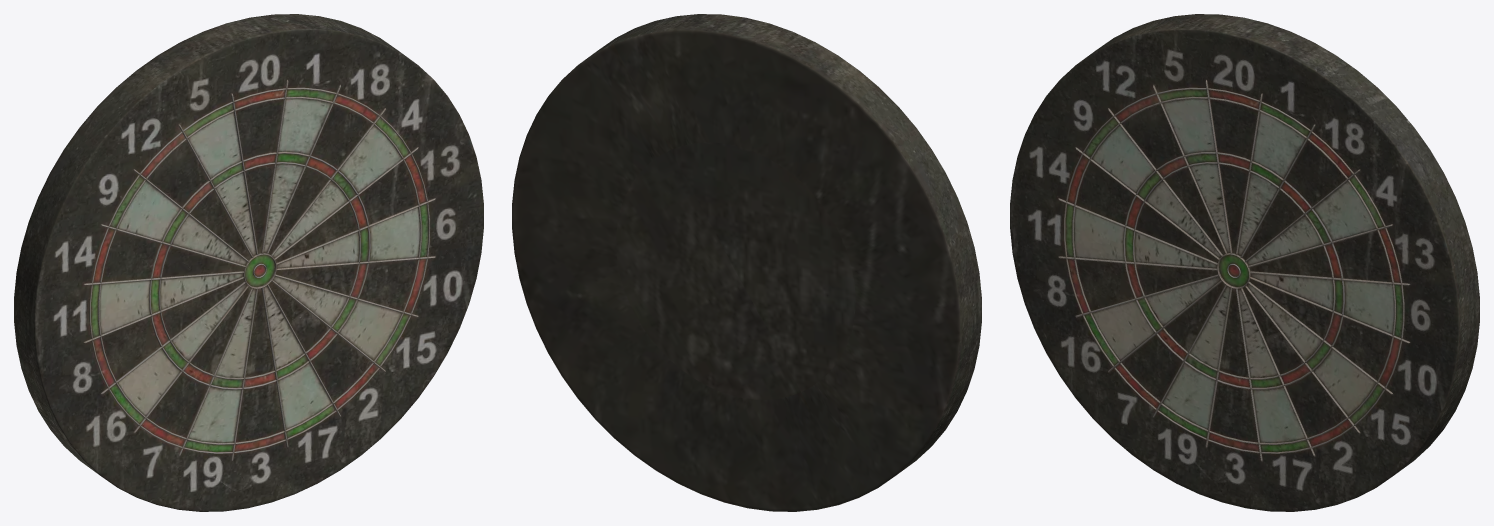
The model's file is dartboard.glb.
3 renders of one model, left to right at view 1: azimuth 30°, elevation 25°; view 2: azimuth 150°, elevation 25°; view 3: azimuth 330°, elevation 25°, orthographic.
Visible parts, largest first — view 1: dartboard; view 2: dartboard; view 3: dartboard.
Part boxes in pixels (x1,y1,x2,y2): dartboard: (14, 14, 483, 511); dartboard: (512, 14, 981, 511); dartboard: (1010, 14, 1479, 511).
Size of the model in its own units: 0.4507 by 0.4507 by 0.0398.
1 material, 1 textured.
